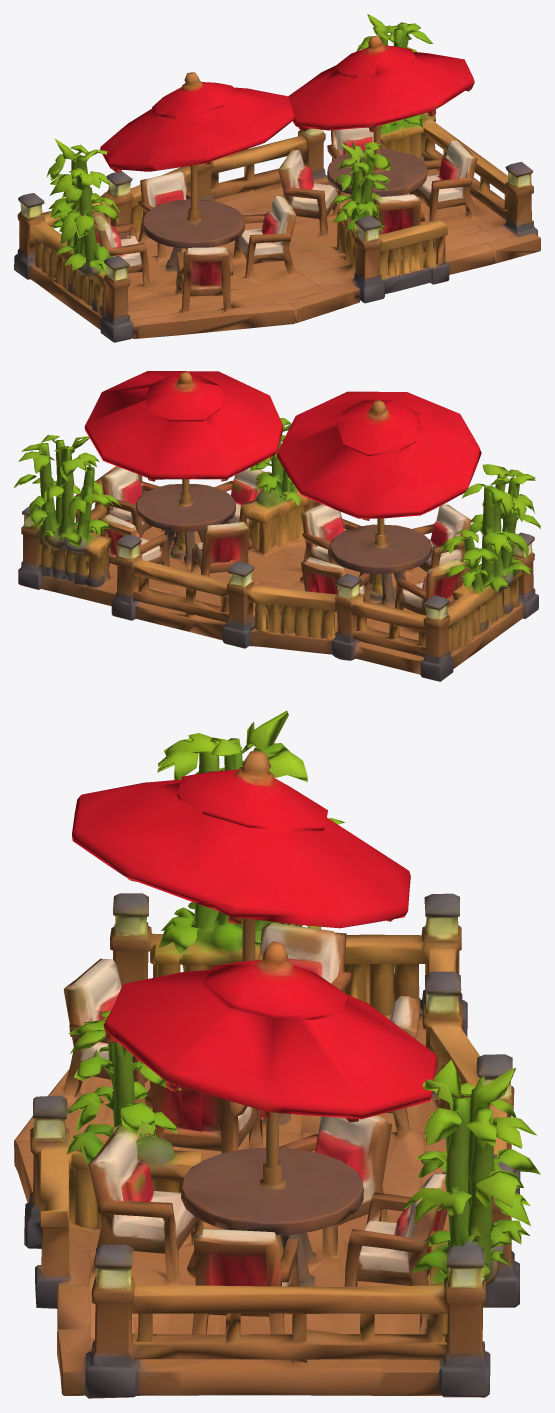
The model's file is patio.glb.
3 renders of one model, top to bottom at view 1: azimuth 30°, elevation 25°; view 2: azimuth 150°, elevation 25°; view 3: azimuth 270°, elevation 25°, orthographic. The views are drawn at different scales.
Visible parts, largest first — view 1: tripo_node_a40a6b4a-a037-49c4-b511-ef957901555b; view 2: tripo_node_a40a6b4a-a037-49c4-b511-ef957901555b; view 3: tripo_node_a40a6b4a-a037-49c4-b511-ef957901555b.
Boxes of the visible parts, bbox=[...] form: tripo_node_a40a6b4a-a037-49c4-b511-ef957901555b: bbox=[14, 14, 540, 342]; tripo_node_a40a6b4a-a037-49c4-b511-ef957901555b: bbox=[14, 371, 540, 681]; tripo_node_a40a6b4a-a037-49c4-b511-ef957901555b: bbox=[14, 710, 540, 1398].
Bounding box in the file's own units: 0.9995 × 0.4555 × 0.5688.
Materials: 1 (1 with a texture image).
